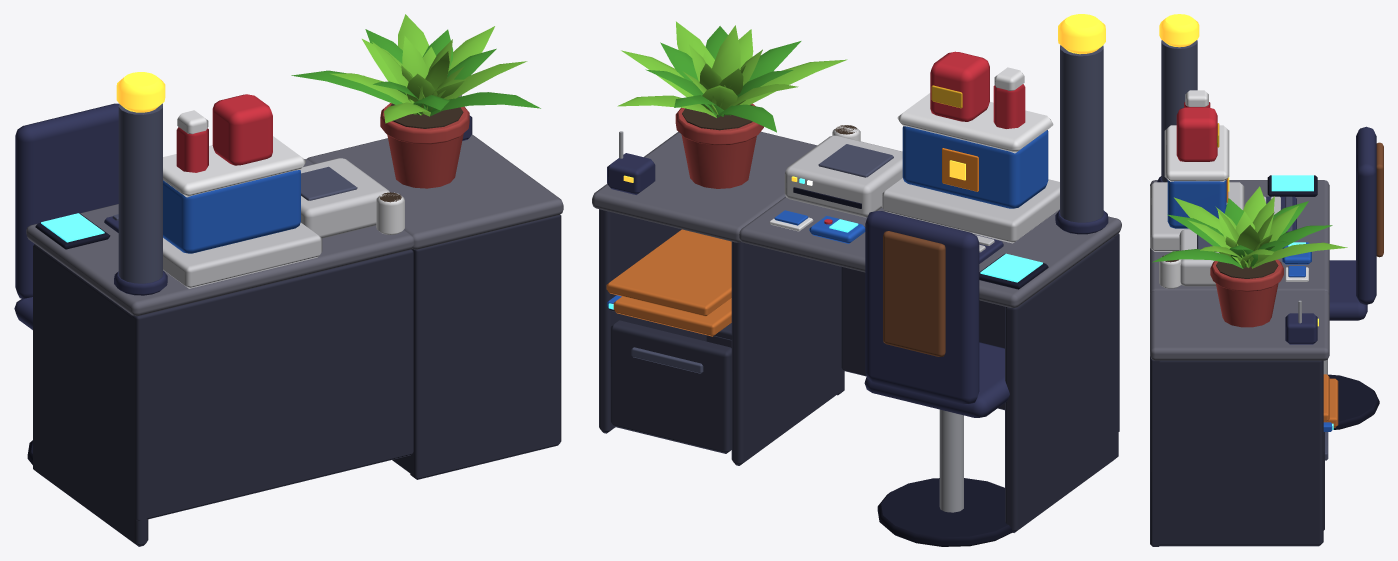
The model's file is prop.props_quarters.desk_set.glb.
3 views of the same model, side by side, from view 1: azimuth 30°, elevation 25°; view 2: azimuth 150°, elevation 25°; view 3: azimuth 270°, elevation 25° (orthographic). The views are drawn at different scales.
Parts seen in each view (by area): view 1: prop.props_quarters.desk_set; view 2: prop.props_quarters.desk_set; view 3: prop.props_quarters.desk_set.
Part boxes in pixels (x1,y1,x2,y2): prop.props_quarters.desk_set: (14, 14, 563, 546); prop.props_quarters.desk_set: (592, 14, 1121, 546); prop.props_quarters.desk_set: (1150, 14, 1383, 546).
Size of the model in its own units: 1.39 by 1.38 by 0.795.
